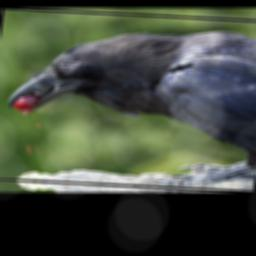Crow: (0, 20, 256, 191)
